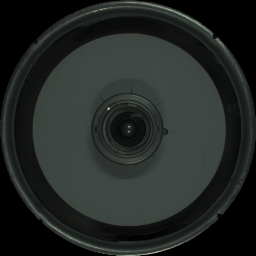collar: (27, 32, 229, 238)
fitting: (83, 86, 168, 168)
